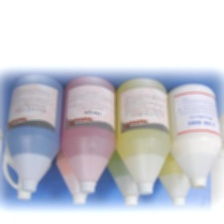cleaning_solution: (3, 70, 65, 195), (57, 72, 118, 196), (112, 75, 172, 197), (162, 81, 224, 191), (152, 110, 205, 209), (99, 119, 157, 208), (1, 106, 54, 201), (53, 109, 104, 207)
